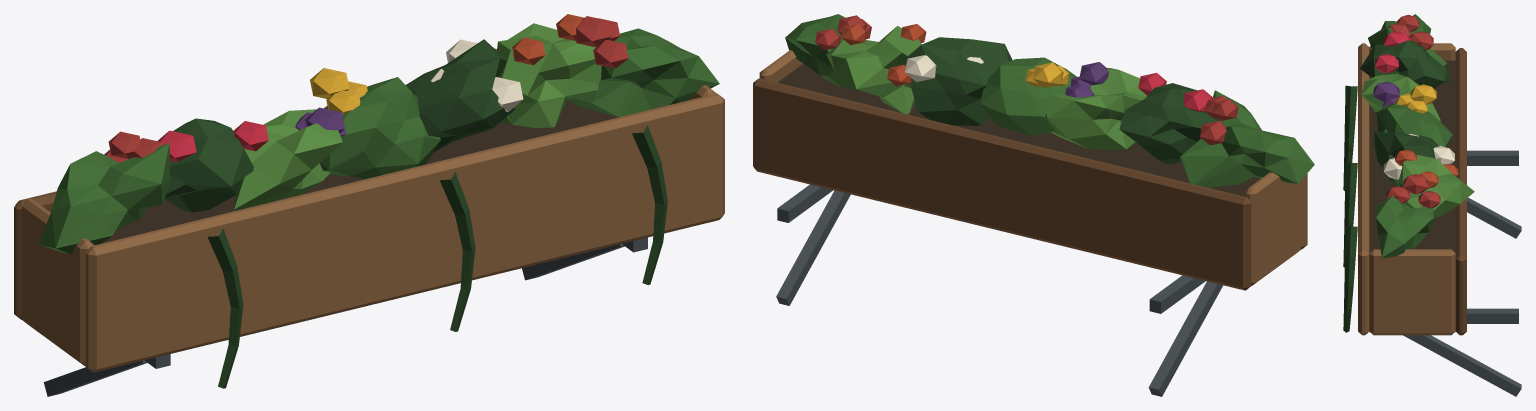
File: mdvl_village_window_box_01.glb
3 views of the same model, side by side, from view 1: azimuth 30°, elevation 25°; view 2: azimuth 150°, elevation 25°; view 3: azimuth 270°, elevation 25° (orthographic). The views are drawn at different scales.
Visible parts, largest first — view 1: mdvl_village_window_box_01; view 2: mdvl_village_window_box_01; view 3: mdvl_village_window_box_01.
Boxes of the visible parts, box(x1,y1,x2,y2) form: mdvl_village_window_box_01: box(14, 14, 724, 396); mdvl_village_window_box_01: box(753, 14, 1314, 396); mdvl_village_window_box_01: box(1343, 14, 1521, 396).
Size of the model in its own units: 1.01 by 0.4647 by 0.3431.
1 material, 1 textured.
